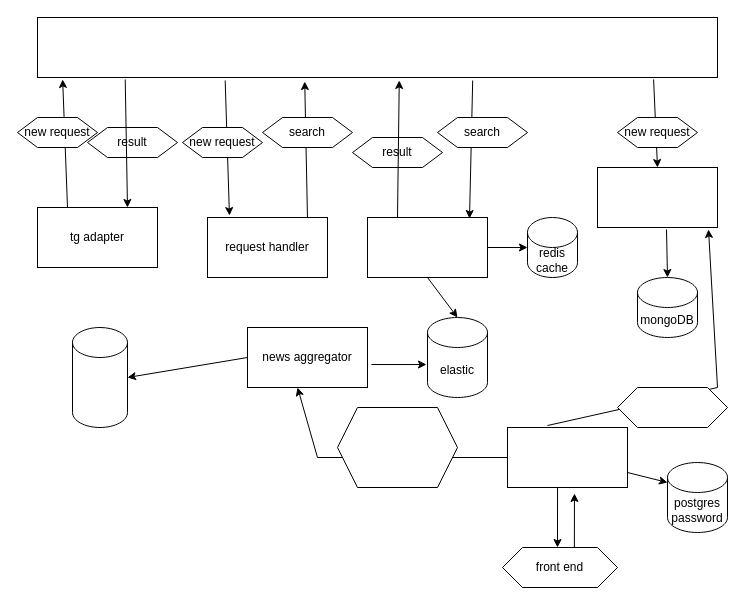
Image size: 745x605. Some labels were removed from this diagram. The shapes that lost their labels are listed below. From the top down, each one's centre as x and y in pixels, then its label:
point (377, 47): kafka
point (657, 197): stats service
point (427, 247): search service
point (100, 377): postgres rss sources
point (672, 407): get stats
point (397, 447): add, delete rss sources
point (567, 457): admin service secure rest
